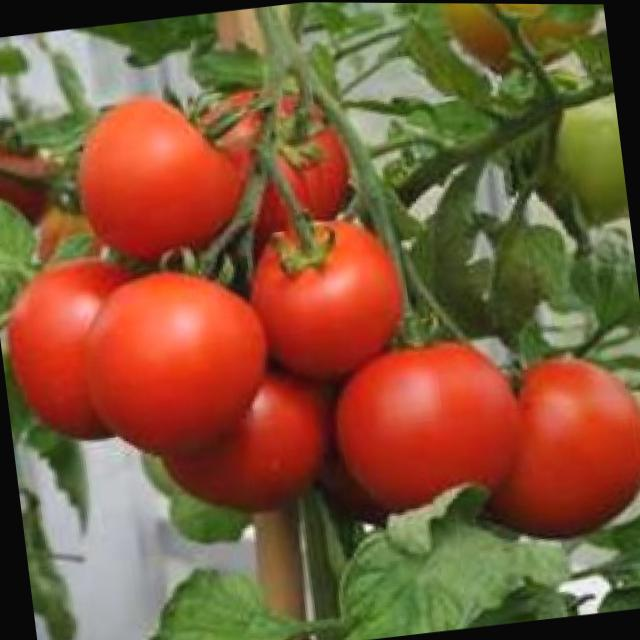tomato: (76, 262, 282, 460), (325, 337, 528, 522), (67, 85, 261, 275), (241, 192, 412, 395), (0, 253, 165, 453), (475, 349, 640, 549), (162, 368, 336, 523), (266, 119, 363, 229)
